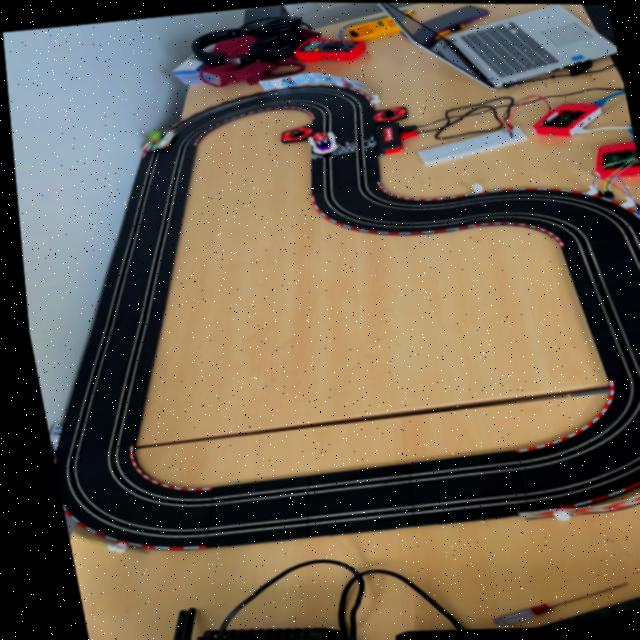mario: (302, 127, 340, 156)
yoshi: (134, 123, 179, 154)
